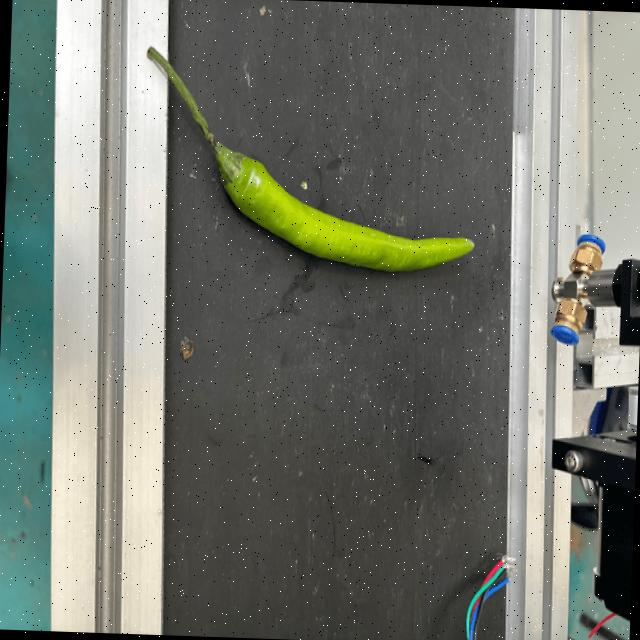chili: (217, 142, 474, 270)
